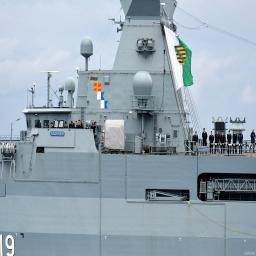Fragata: (1, 10, 180, 249)
